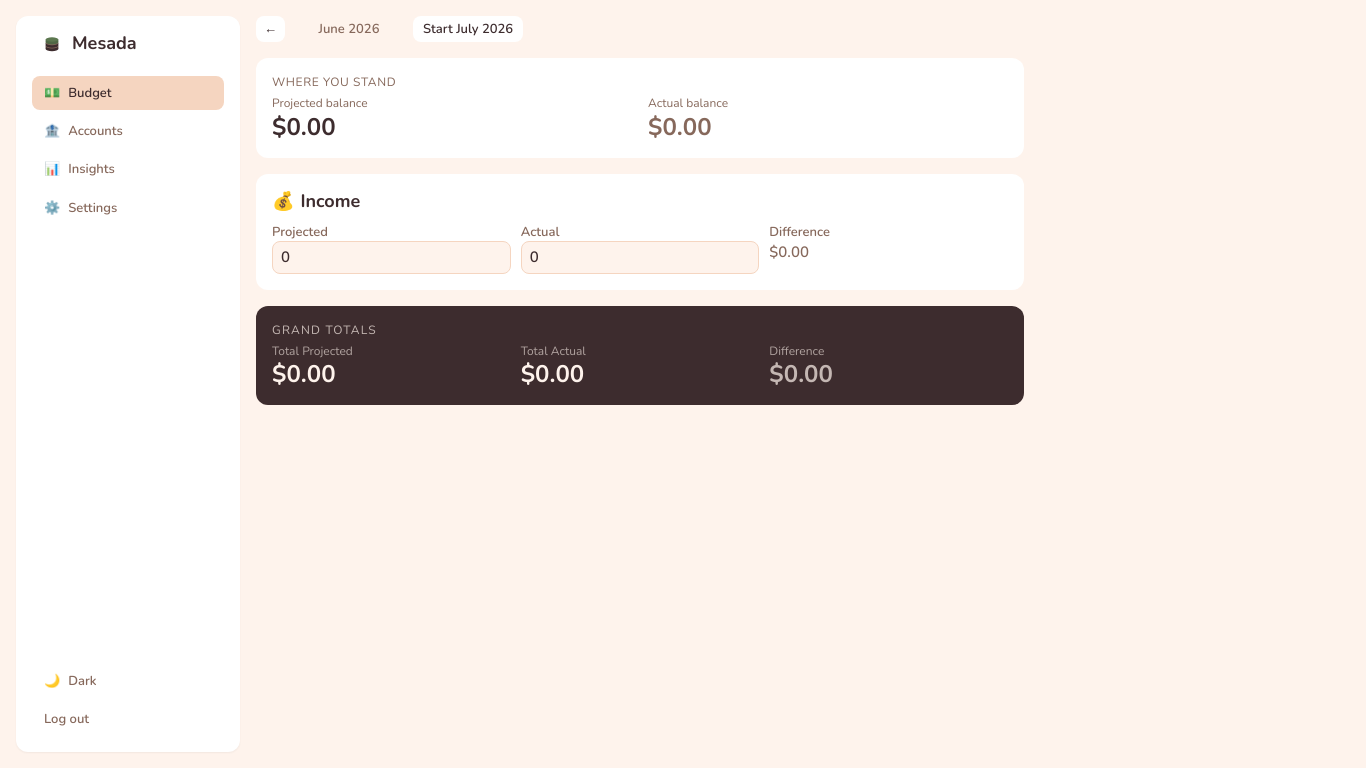
App › navigates to the accounts page from the sidebar
Click the button "🏦 Accounts": (128, 131) top-left (32, 114), bottom-right (224, 148)
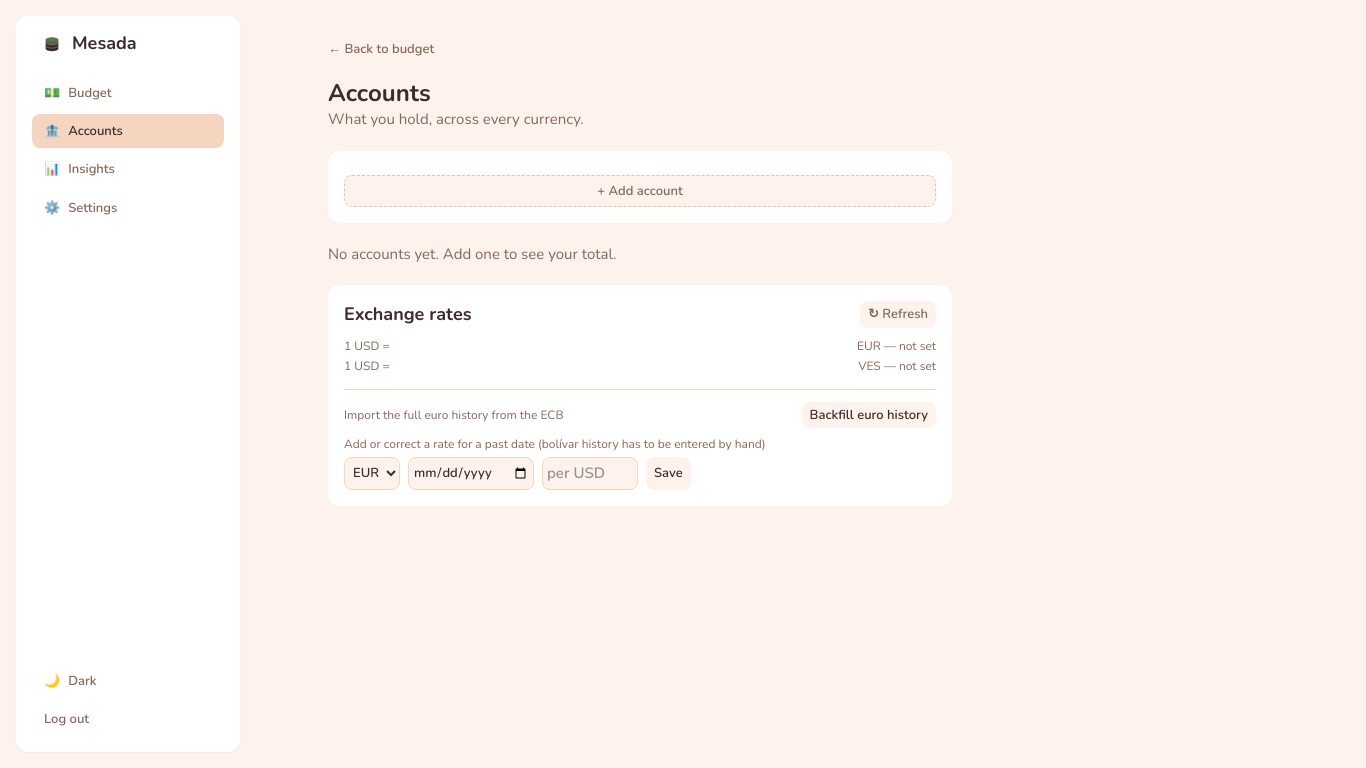
Now the heading "Accounts" is shown, box top-left (328, 77), bottom-right (431, 109)
